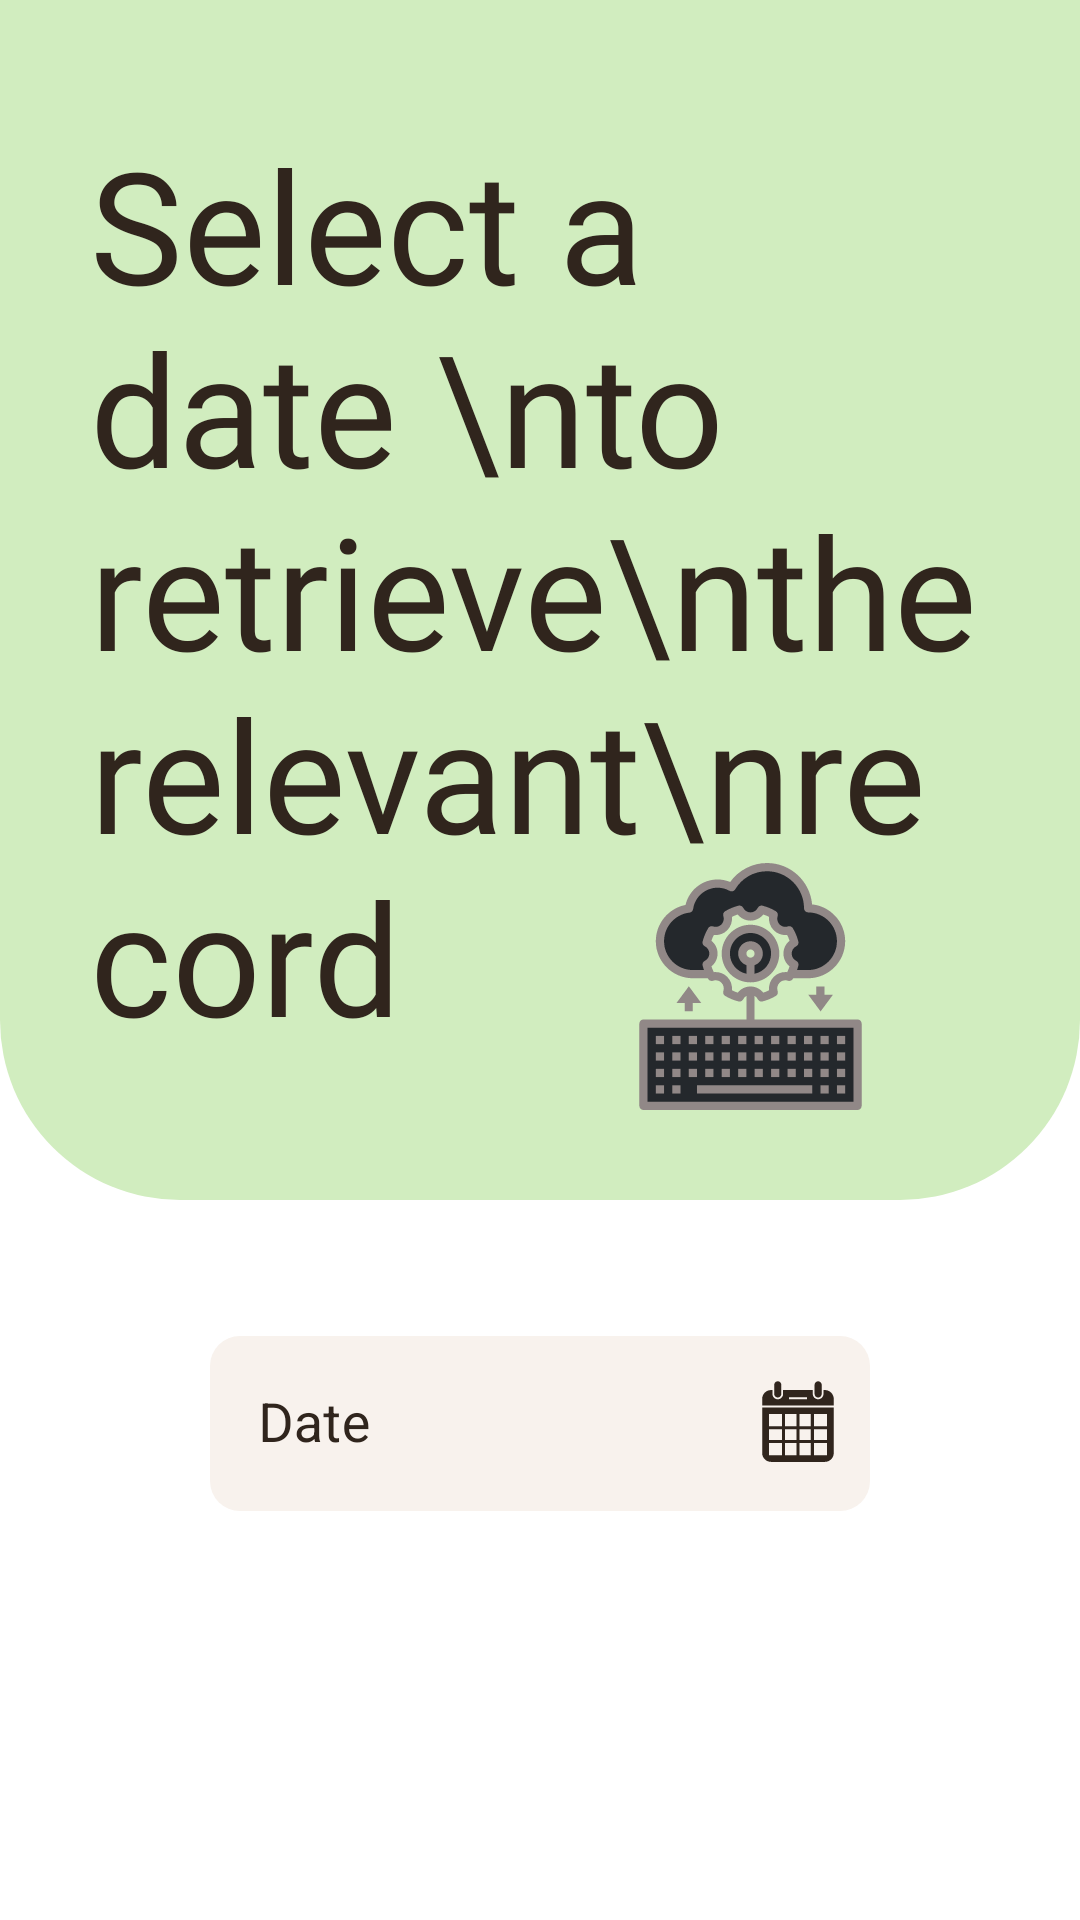

Where icons sit on this 1080px×1920px app screen, as region(x1, y1, x2, y2):
data retrieve: region(639, 863, 862, 1110)
